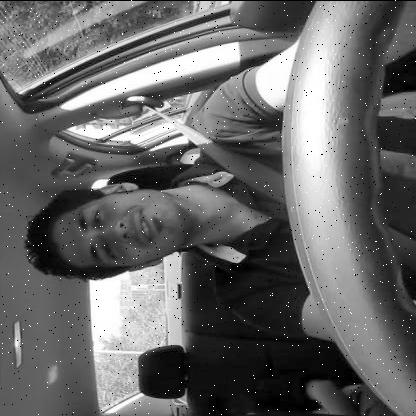seatbelt: (5, 92, 416, 293)
